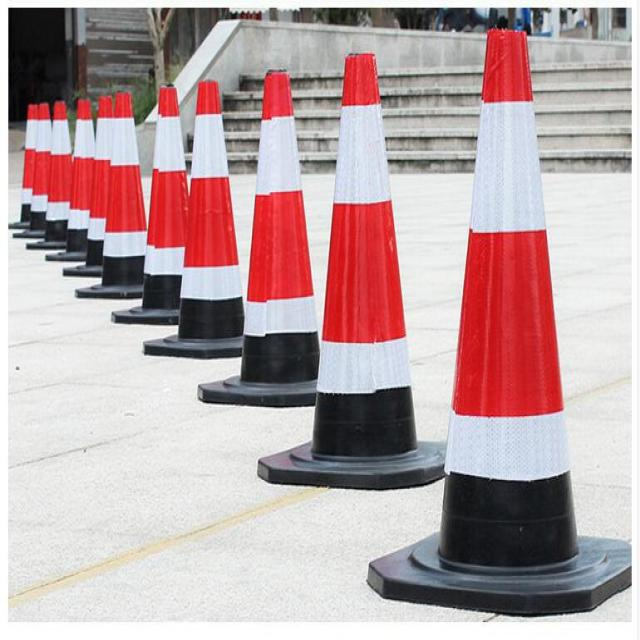reflective_cone: (362, 24, 631, 610), (254, 52, 448, 490), (195, 68, 319, 408), (140, 78, 242, 357), (109, 81, 188, 325), (75, 90, 144, 298), (62, 96, 108, 276), (44, 96, 94, 261), (24, 99, 73, 248)
